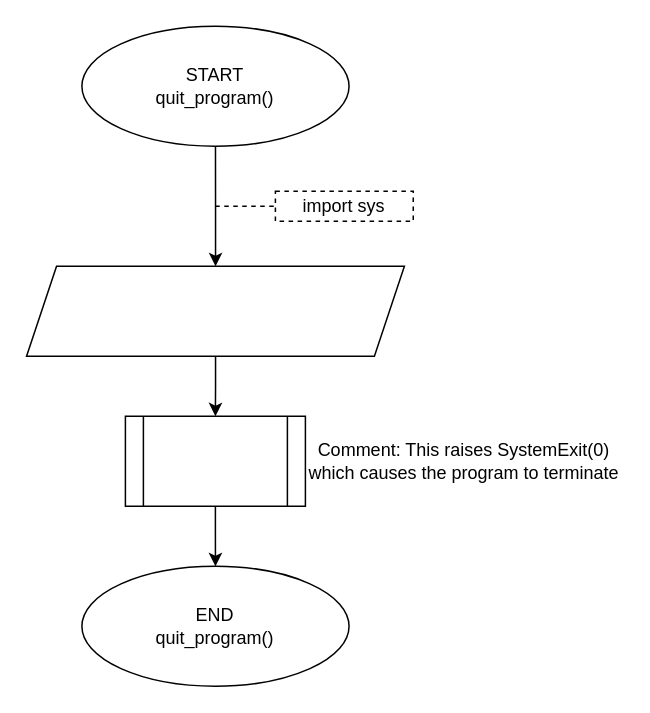
The diagram is 650 pixels wide and 713 high, and some of its shapes have lost their labels. Each missing label, with the box of its shape:
Display "Thank you for visiting Singapore Active Dentists 2 Portal\nGoodbye!": (25, 265, 404, 356)
sys.exit(0): (124, 415, 305, 506)
